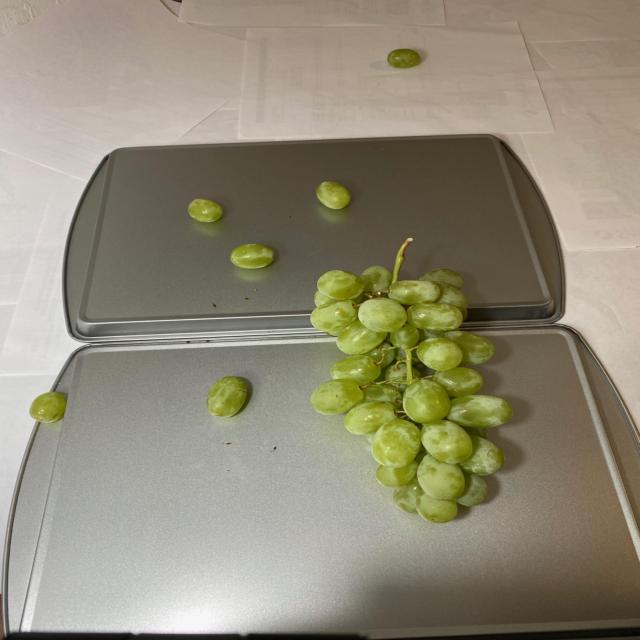grapes: (219, 235, 516, 526), (182, 192, 226, 225), (312, 181, 353, 214), (29, 390, 67, 425), (387, 47, 427, 69)
